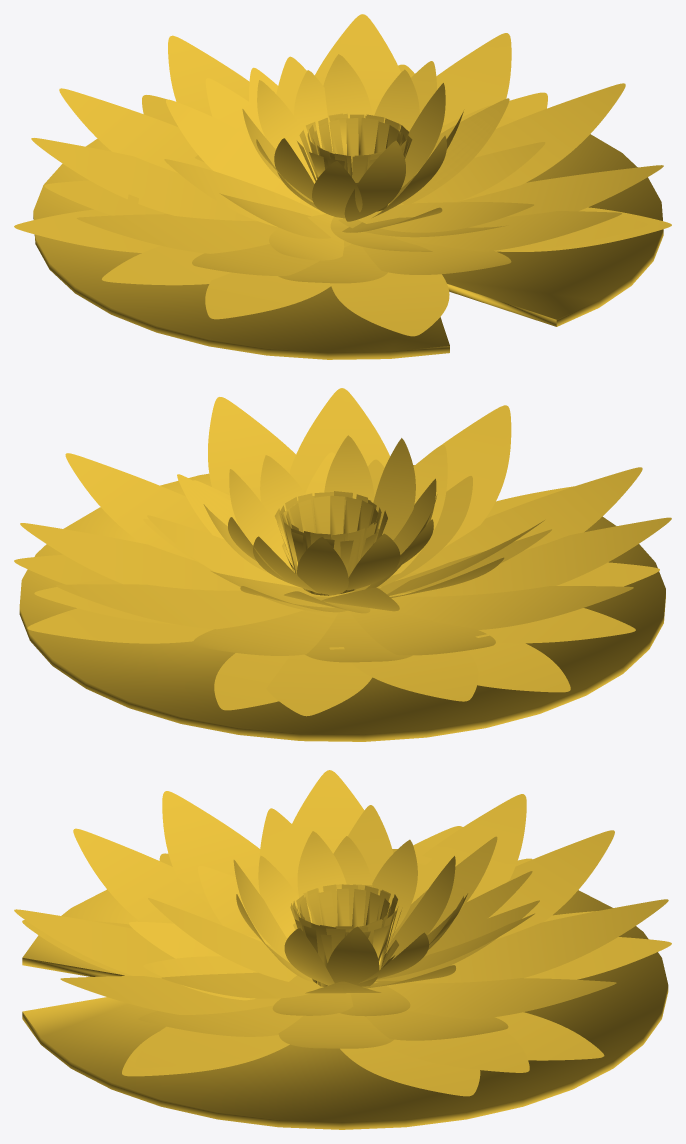
Rendered from lily 1.obj.
The picture shows the model from 3 angles, top to bottom: view 1: azimuth 30°, elevation 25°; view 2: azimuth 150°, elevation 25°; view 3: azimuth 270°, elevation 25°; orthographic projection. The views are drawn at different scales.
Visible parts, largest first — view 1: Circle; view 2: Circle; view 3: Circle.
Boxes of the visible parts, left/top/right/bottom form: Circle: left=14, top=14, right=671, bottom=359; Circle: left=14, top=388, right=671, bottom=741; Circle: left=14, top=770, right=671, bottom=1129.
Size of the model in its own units: 4.21 by 0.9199 by 4.21.
